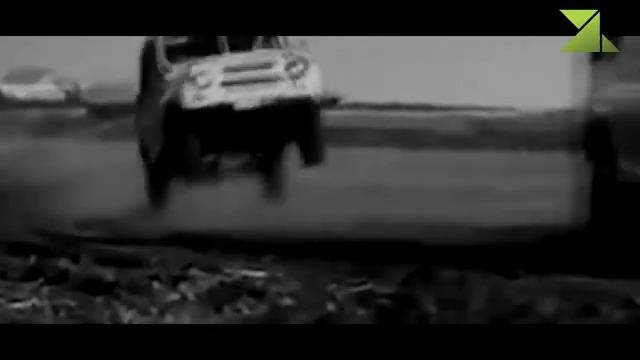MIL_HMMWV: (130, 31, 342, 208)
